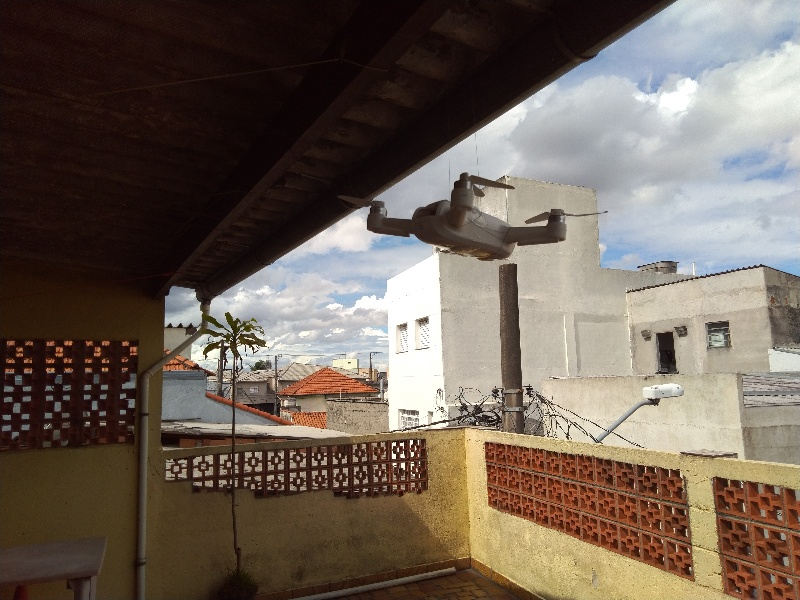drone: (344, 166, 609, 271)
